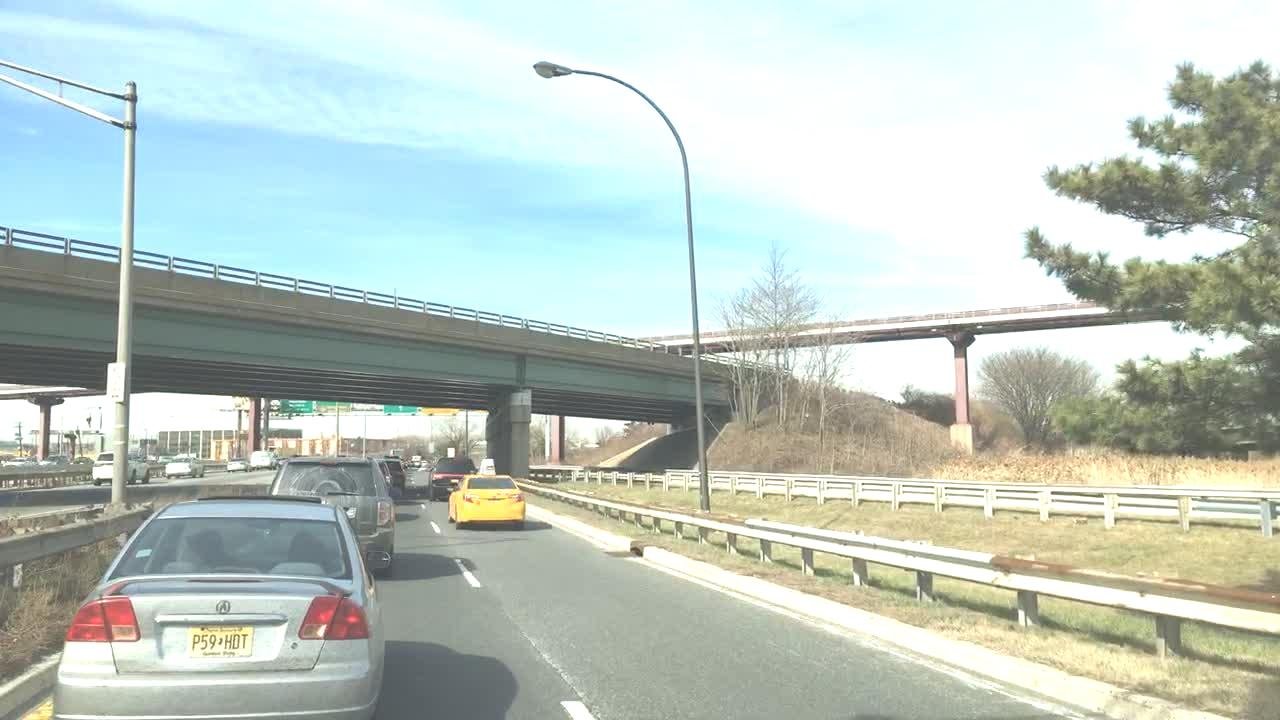acura: (208, 593, 241, 619)
